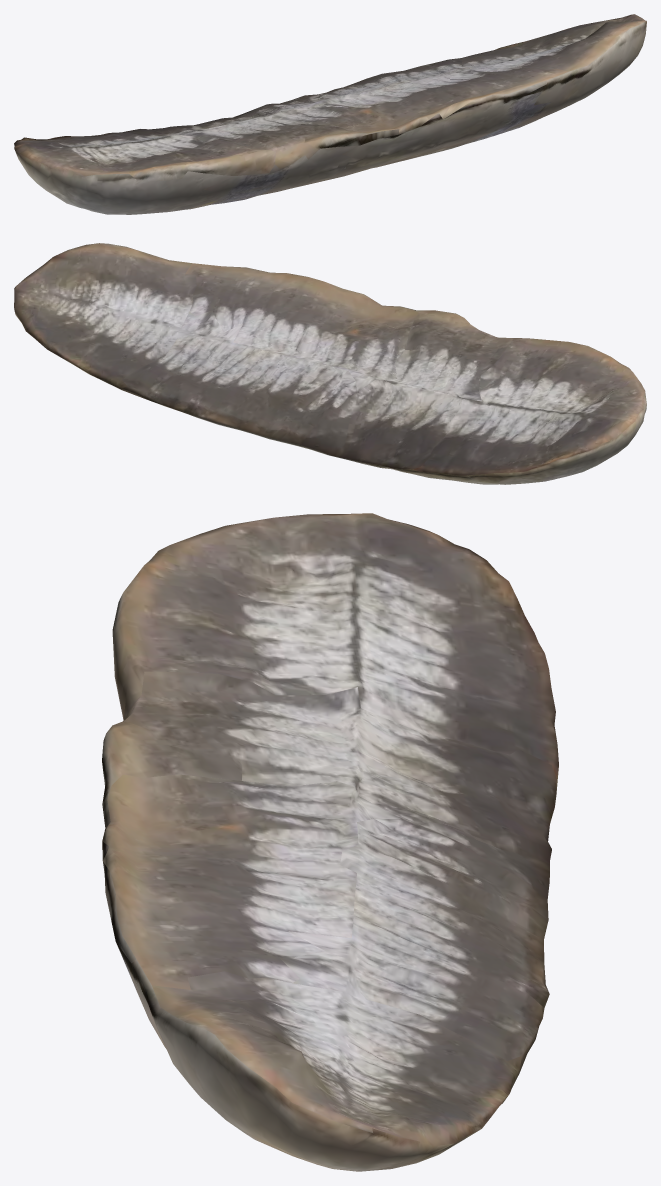
Rendered from fern.glb.
The picture shows the model from 3 angles, top to bottom: view 1: azimuth 30°, elevation 25°; view 2: azimuth 150°, elevation 25°; view 3: azimuth 270°, elevation 25°; orthographic projection. The views are drawn at different scales.
Parts seen in each view (by area): view 1: Fern; view 2: Fern; view 3: Fern.
Part boxes in pixels (x1,y1,x2,y2): Fern: (14, 14, 646, 214); Fern: (14, 243, 646, 484); Fern: (102, 513, 558, 1171).
Size of the model in its own units: 2.1 by 0.3106 by 0.6774.
Materials: 1 (1 with a texture image).
